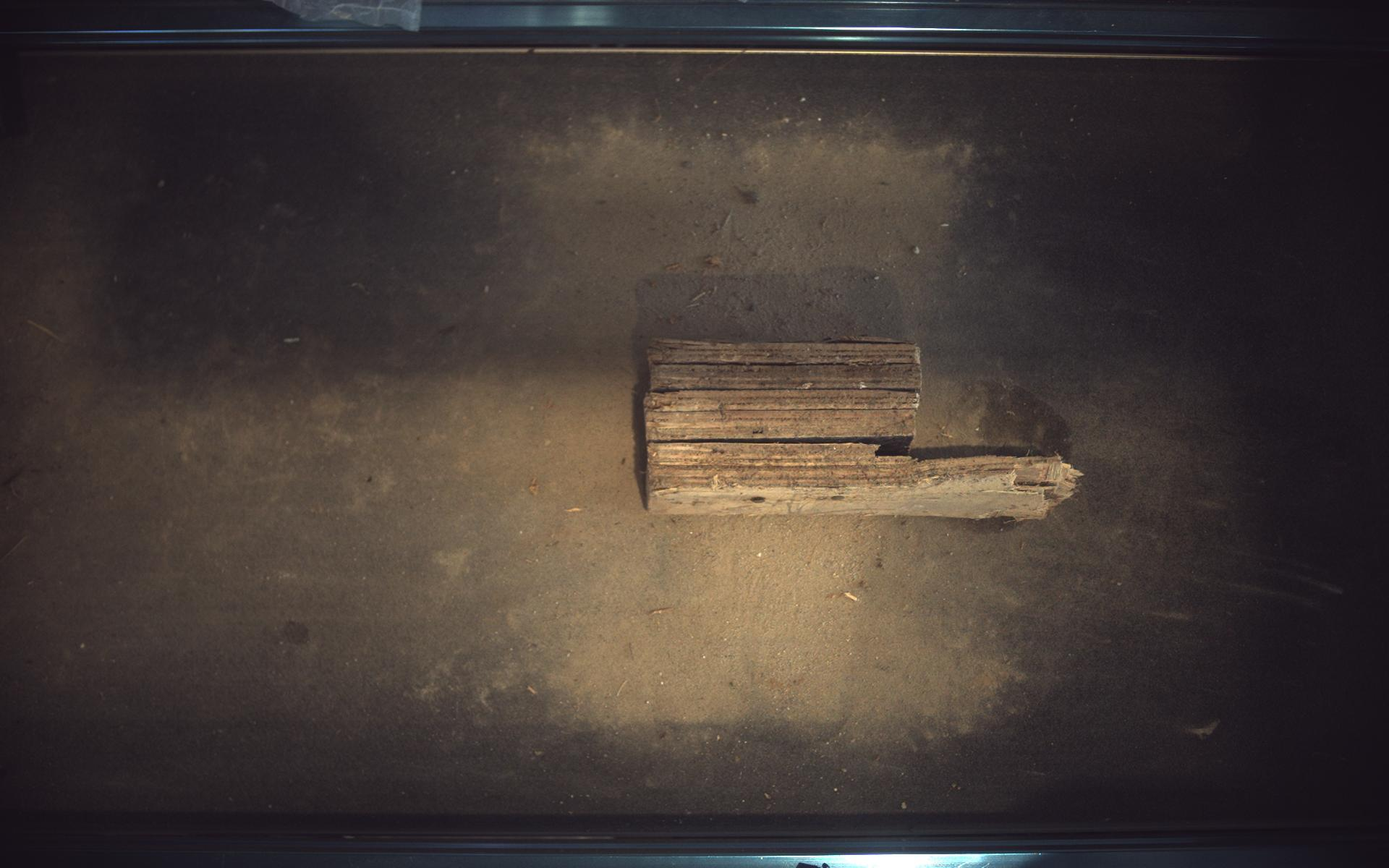wood: (645, 339, 1083, 519)
